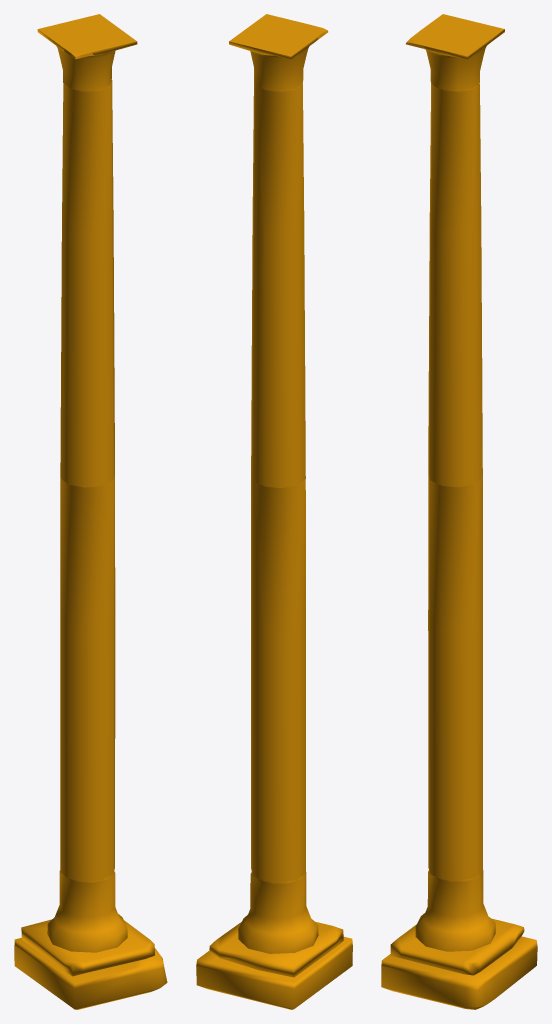
Rendered from Pillar_08_Lod1.fbx.
The picture shows the model from 3 angles, left to right: view 1: azimuth 30°, elevation 25°; view 2: azimuth 150°, elevation 25°; view 3: azimuth 330°, elevation 25°; orthographic projection.
Parts seen in each view (by area): view 1: Pillar_08_Lod1; view 2: Pillar_08_Lod1; view 3: Pillar_08_Lod1.
Part boxes in pixels (x1=…): Pillar_08_Lod1: x1=14, y1=14, x2=167, y2=1009; Pillar_08_Lod1: x1=196, y1=14, x2=352, y2=1009; Pillar_08_Lod1: x1=381, y1=14, x2=537, y2=1009.
Bounding box in the file's own units: 563 × 5159 × 594.
